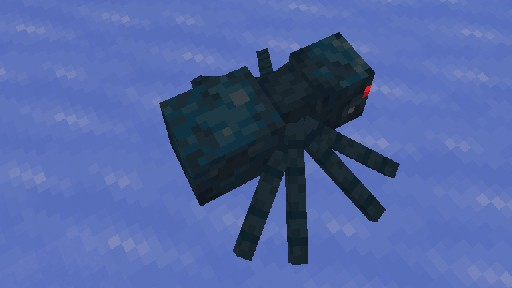cave_spider: (158, 31, 399, 264)
